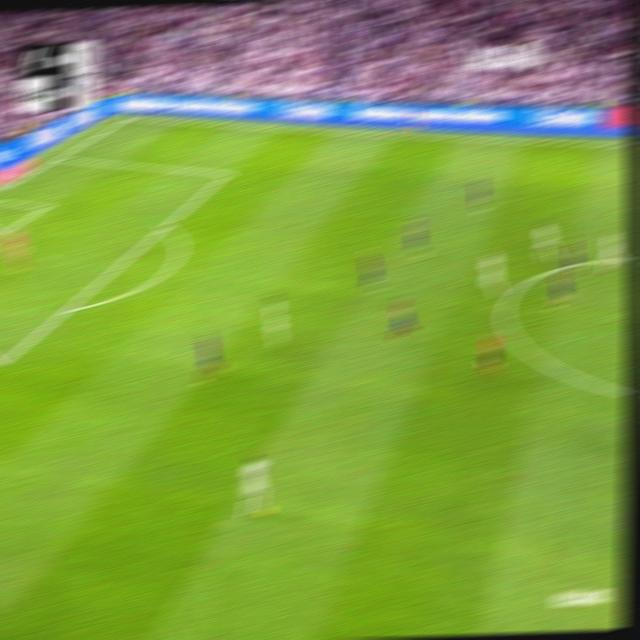bigarea_top_inner: (218, 166, 233, 182)
bigarea_top_outter: (52, 150, 67, 162)
bottom_arc_area_intersection: (58, 298, 78, 319)
corner: (122, 112, 136, 121)
smallarea_top_inner: (38, 201, 51, 211)
top_arc_area_intersection: (156, 216, 174, 234)
